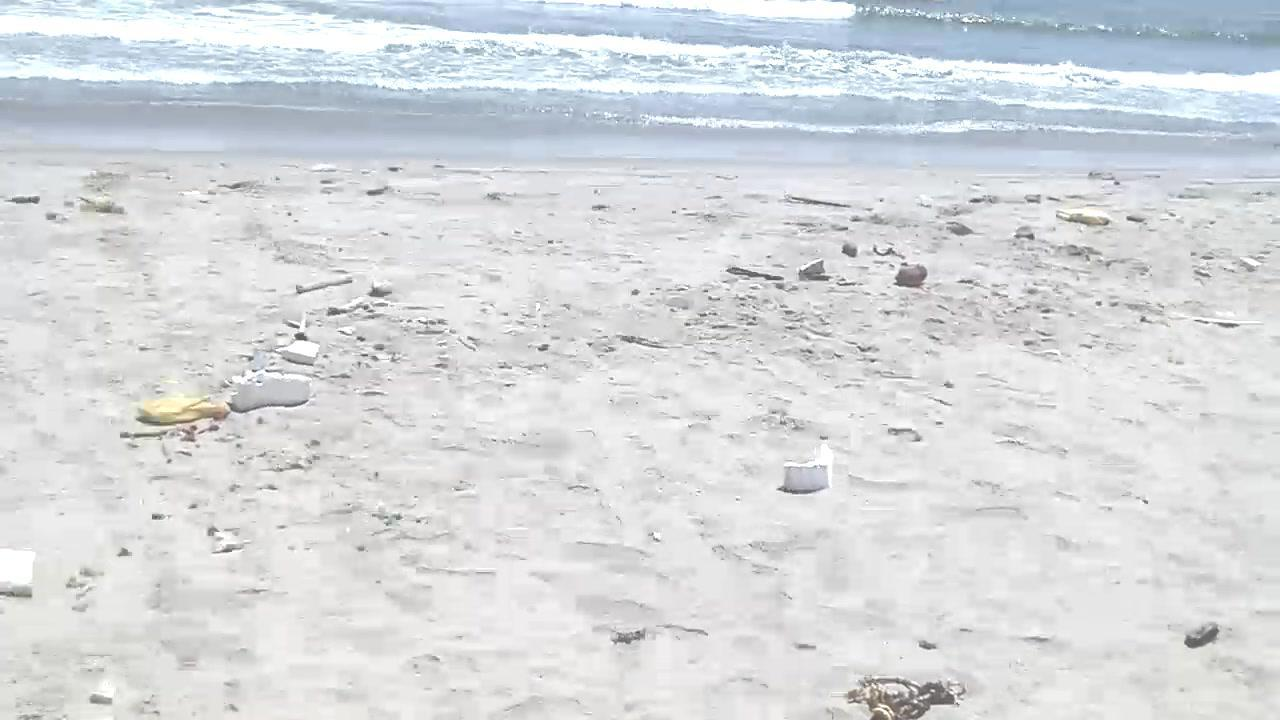obj: (832, 670, 964, 719), (228, 364, 316, 419), (126, 391, 225, 428), (1146, 305, 1265, 331), (782, 440, 838, 493), (0, 542, 39, 601), (316, 290, 378, 320), (294, 272, 358, 300), (782, 190, 859, 212), (1180, 620, 1222, 654), (724, 264, 790, 284), (1052, 207, 1110, 228), (894, 262, 931, 290), (280, 339, 319, 364), (796, 258, 834, 283), (938, 219, 984, 237), (283, 307, 308, 338), (73, 199, 123, 213), (7, 192, 44, 208), (836, 241, 862, 260)
sand/background: (0, 0, 1279, 176)
